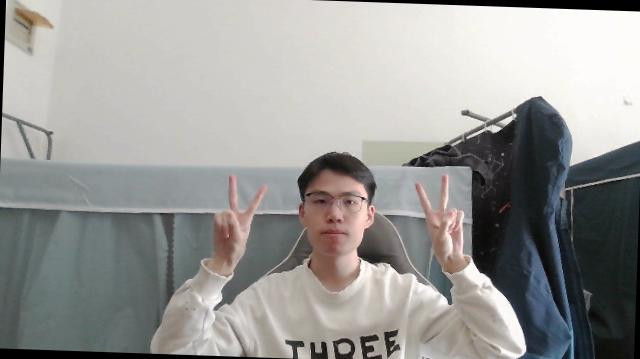two: (210, 172, 270, 260), (410, 172, 468, 258)
